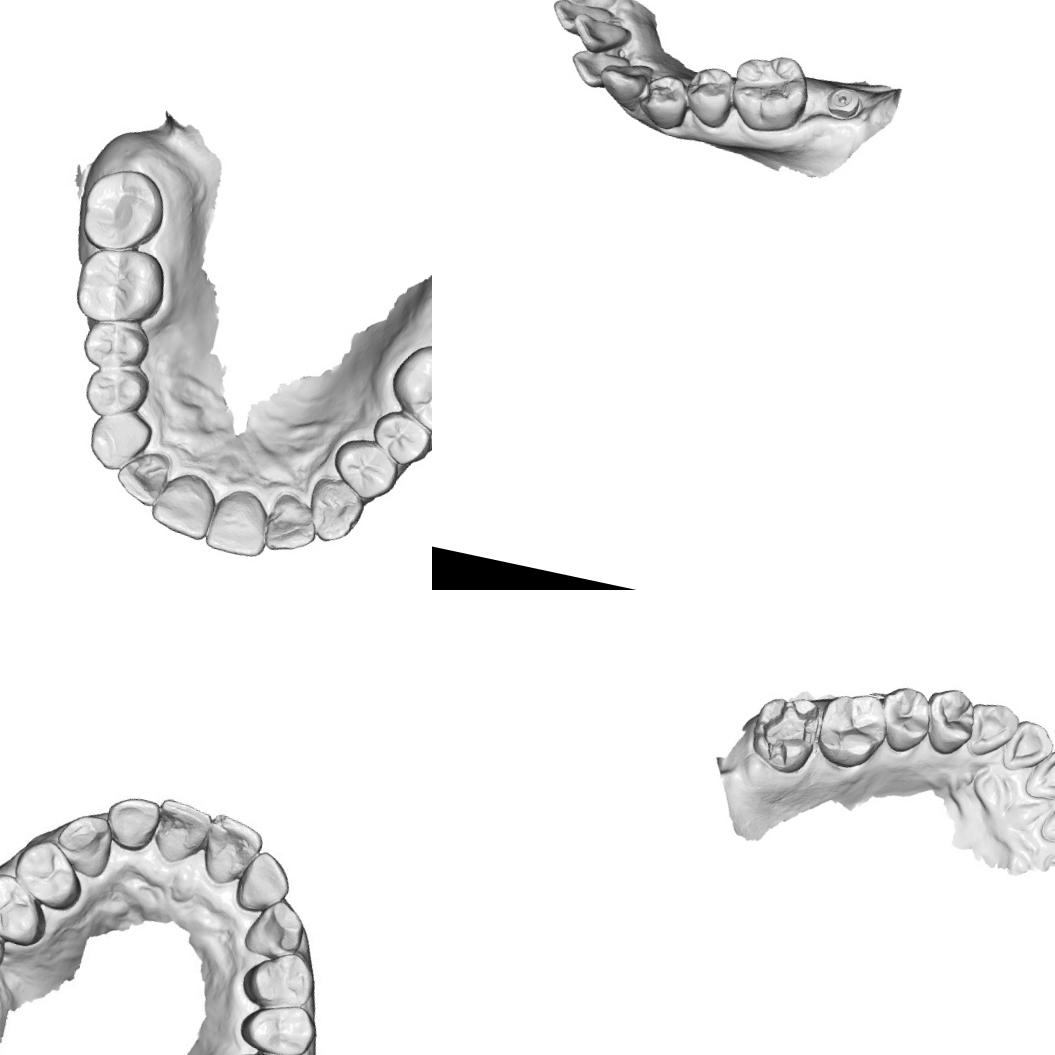canine: (82, 404, 158, 478), (300, 473, 370, 550), (239, 898, 307, 968), (54, 808, 118, 882), (961, 697, 1022, 766), (592, 56, 656, 114)
implant: (823, 82, 864, 122)
incisor: (200, 482, 280, 562), (146, 466, 222, 544), (150, 796, 220, 876), (258, 488, 326, 560), (200, 810, 264, 884), (111, 443, 176, 510), (998, 715, 1055, 779), (236, 850, 292, 914), (565, 44, 632, 95), (566, 10, 634, 60), (104, 793, 158, 851), (547, 0, 614, 41), (1020, 738, 1055, 810), (1037, 783, 1055, 853), (558, 0, 621, 12)
inlay: (751, 692, 822, 773)
molar: (73, 160, 173, 261), (68, 238, 172, 334), (724, 45, 818, 140), (813, 684, 895, 776), (379, 335, 432, 442)
premolar: (239, 941, 322, 1018), (325, 433, 406, 508), (13, 836, 85, 916), (76, 312, 154, 378), (871, 681, 936, 760), (916, 682, 978, 761), (362, 405, 432, 474), (237, 999, 319, 1055), (79, 362, 153, 424), (680, 61, 738, 131), (634, 69, 696, 134), (0, 871, 45, 942)
